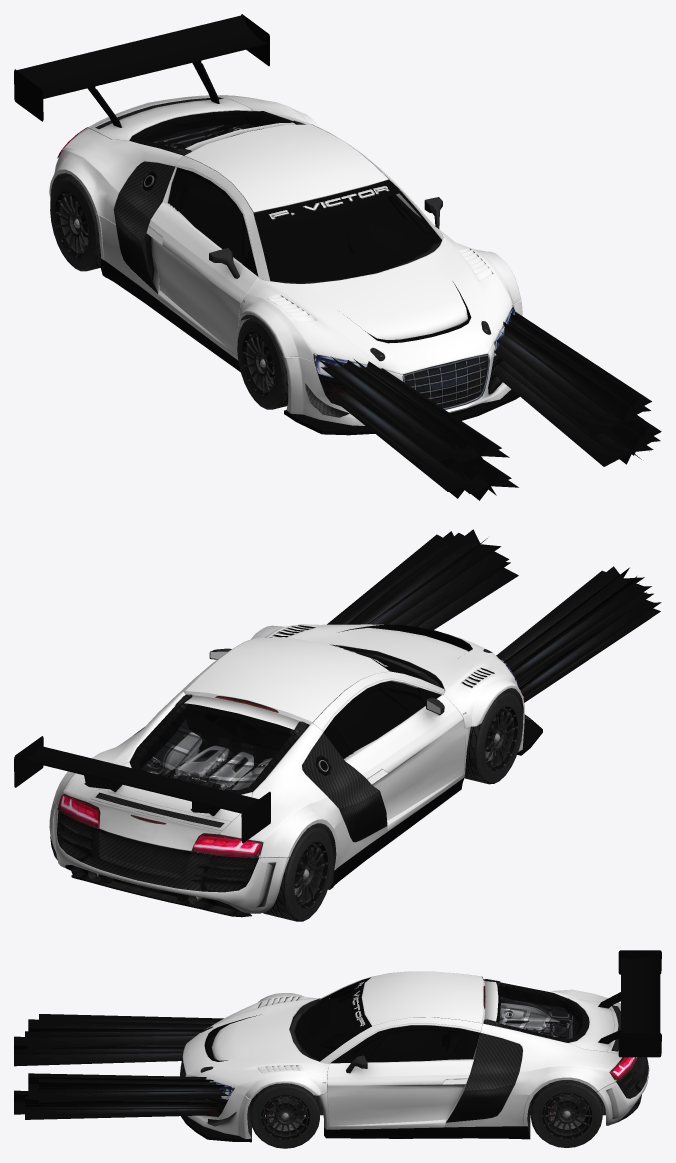
File: Sports_07.fbx
3 renders of one model, top to bottom at view 1: azimuth 30°, elevation 25°; view 2: azimuth 150°, elevation 25°; view 3: azimuth 270°, elevation 25°, orthographic. The views are drawn at different scales.
Visible parts, largest first — view 1: chassis, GlassTransp, lights_position_front_glows, Interior, misc, Tail, lights_position_front_glows3, Wheel_RR, Wheel_FR, Engine; view 2: chassis, misc, lights_position_front_glows, GlassTransp, Tail, Interior, Engine, lights_position_front_glows3, Wheel_RR, Wheel_FR, Brake_Lights, Lights; view 3: chassis, lights_position_front_glows, GlassTransp, misc, lights_position_front_glows3, Interior, Tail, Wheel_RL, wheel_FL, Engine, botton, Brake_Lights.
Part boxes in pixels (x1,y1,x2,y2): chassis: (49, 95, 522, 435); GlassTransp: (137, 110, 440, 283); lights_position_front_glows: (319, 312, 651, 470); Interior: (172, 168, 438, 282); misc: (95, 97, 502, 417); Tail: (14, 14, 269, 127); lights_position_front_glows3: (327, 360, 661, 500); Wheel_RR: (50, 176, 100, 271); Wheel_FR: (237, 317, 288, 409); Engine: (134, 124, 254, 148); chassis: (49, 624, 542, 913); misc: (57, 624, 531, 917); lights_position_front_glows: (327, 529, 651, 684); GlassTransp: (137, 646, 434, 789); Tail: (14, 736, 270, 843); Interior: (185, 661, 431, 757); Engine: (142, 719, 281, 790); lights_position_front_glows3: (406, 562, 661, 702); Wheel_RR: (263, 826, 333, 921); Wheel_FR: (464, 691, 523, 784); Brake_Lights: (57, 795, 261, 858); Lights: (63, 663, 516, 857); chassis: (181, 971, 649, 1142); lights_position_front_glows: (28, 1014, 231, 1102); GlassTransp: (294, 980, 582, 1062); misc: (180, 977, 648, 1126); lights_position_front_glows3: (14, 1031, 217, 1119); Interior: (297, 981, 479, 1061); Tail: (598, 950, 661, 1057); Wheel_RL: (530, 1080, 602, 1147); wheel_FL: (250, 1083, 319, 1148); Engine: (499, 996, 578, 1040); botton: (247, 1095, 605, 1138); Brake_Lights: (611, 1003, 637, 1081).
Size of what is drawn, in the model's own units: 123 by 75.31 by 381.
11 materials, 9 textured.
